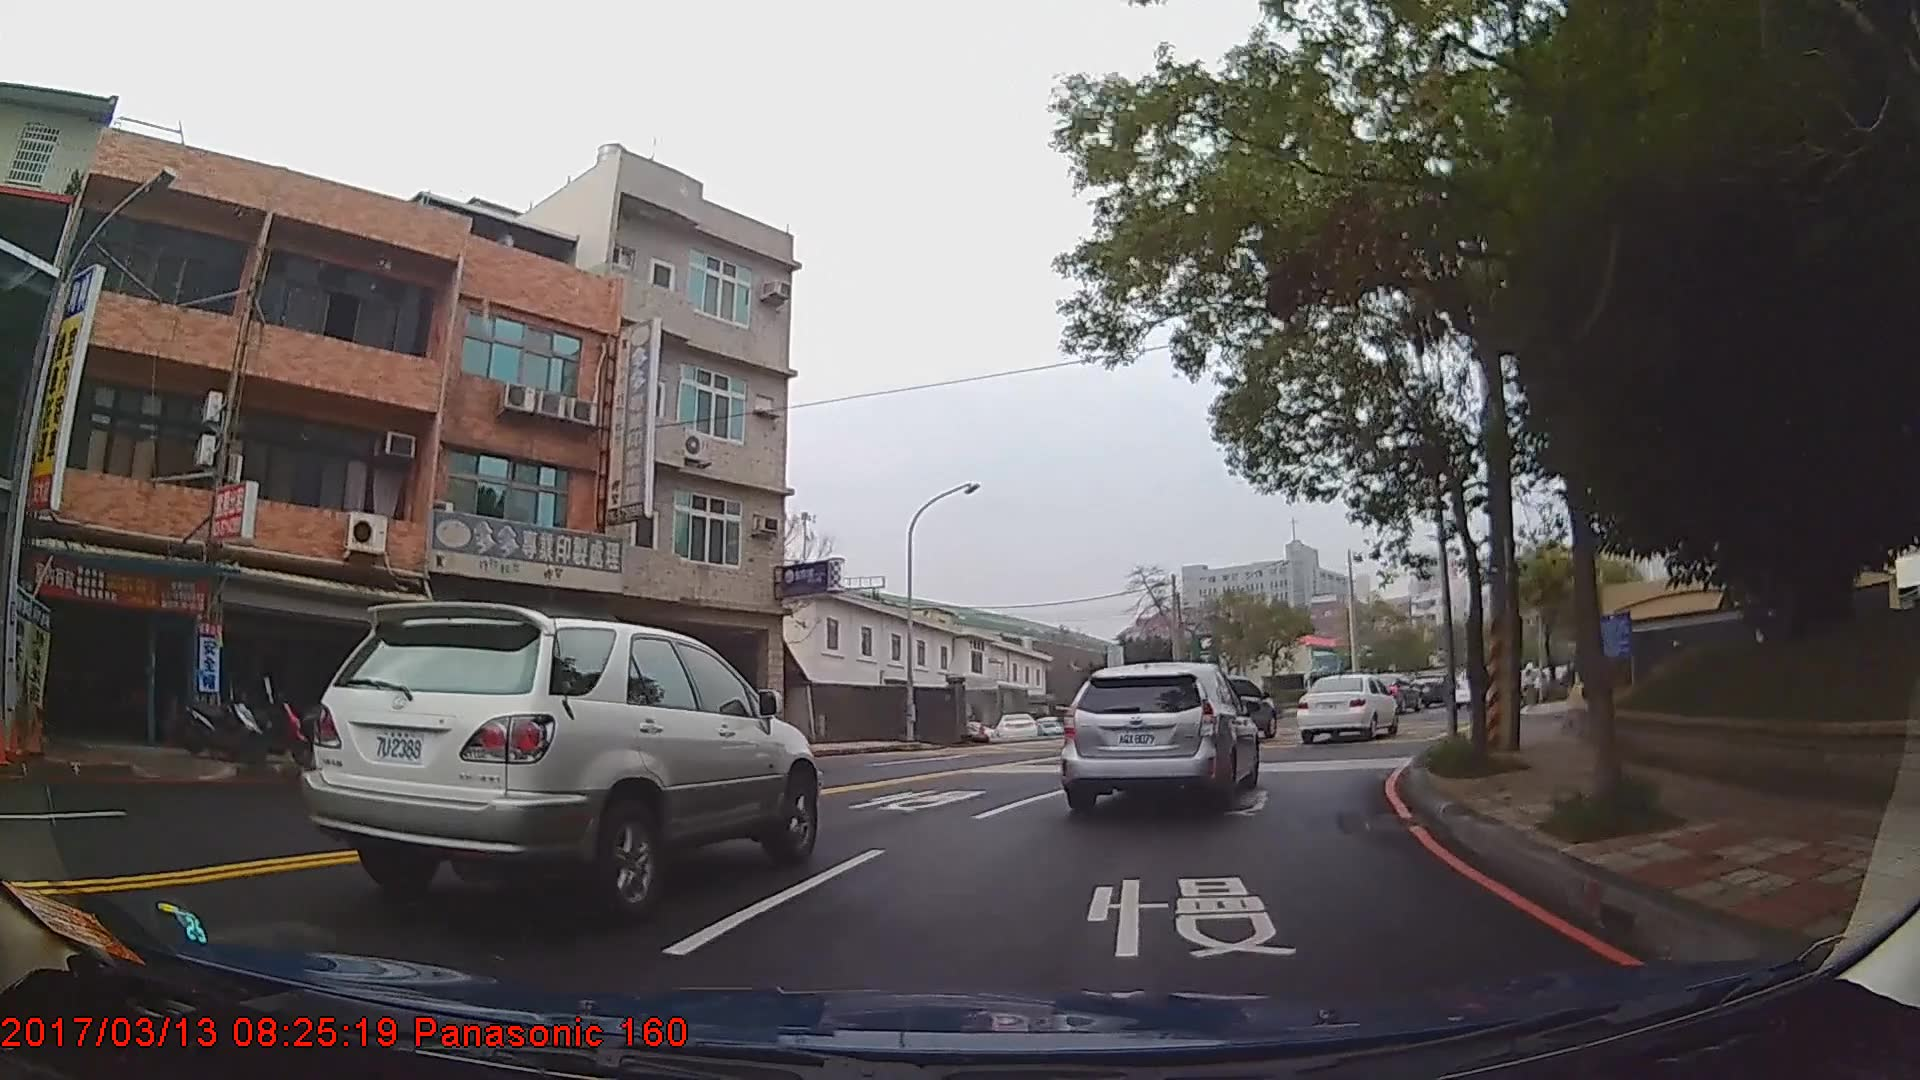vehicle: (295, 597, 822, 928), (1055, 658, 1255, 810), (1295, 670, 1400, 741), (1187, 673, 1276, 738), (994, 709, 1039, 738)
